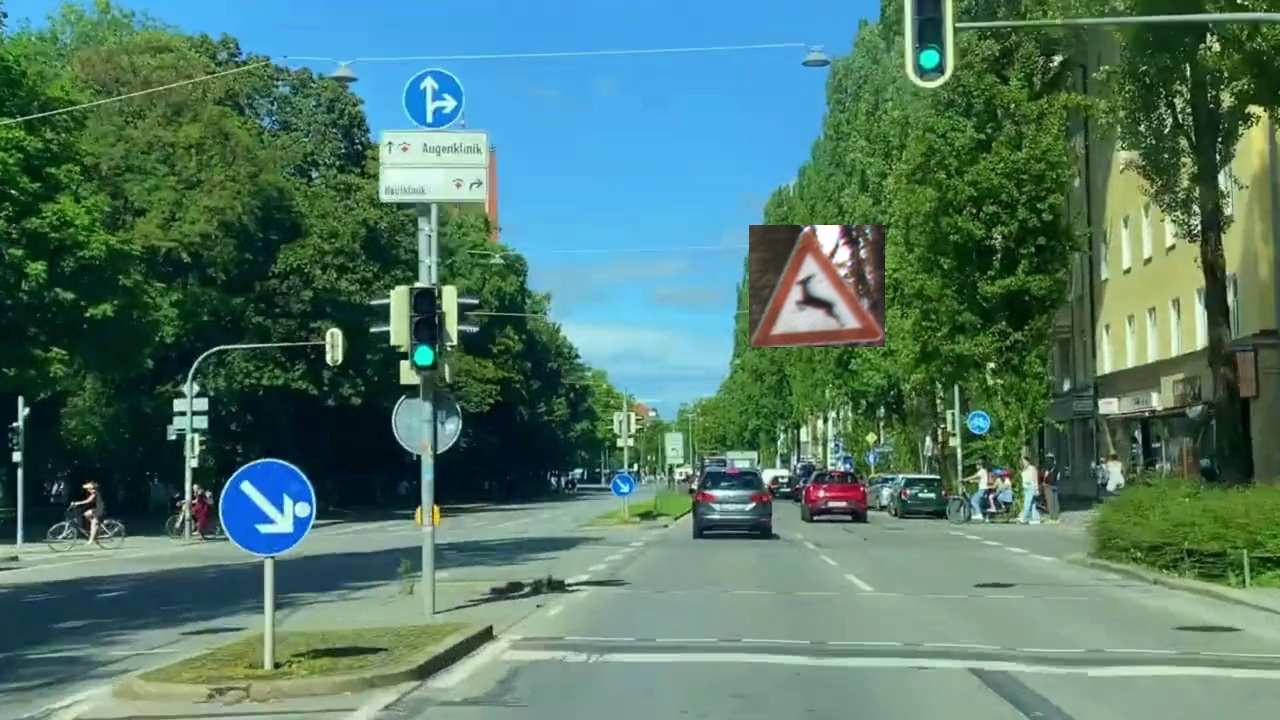Wild animals: (749, 225, 885, 347)
